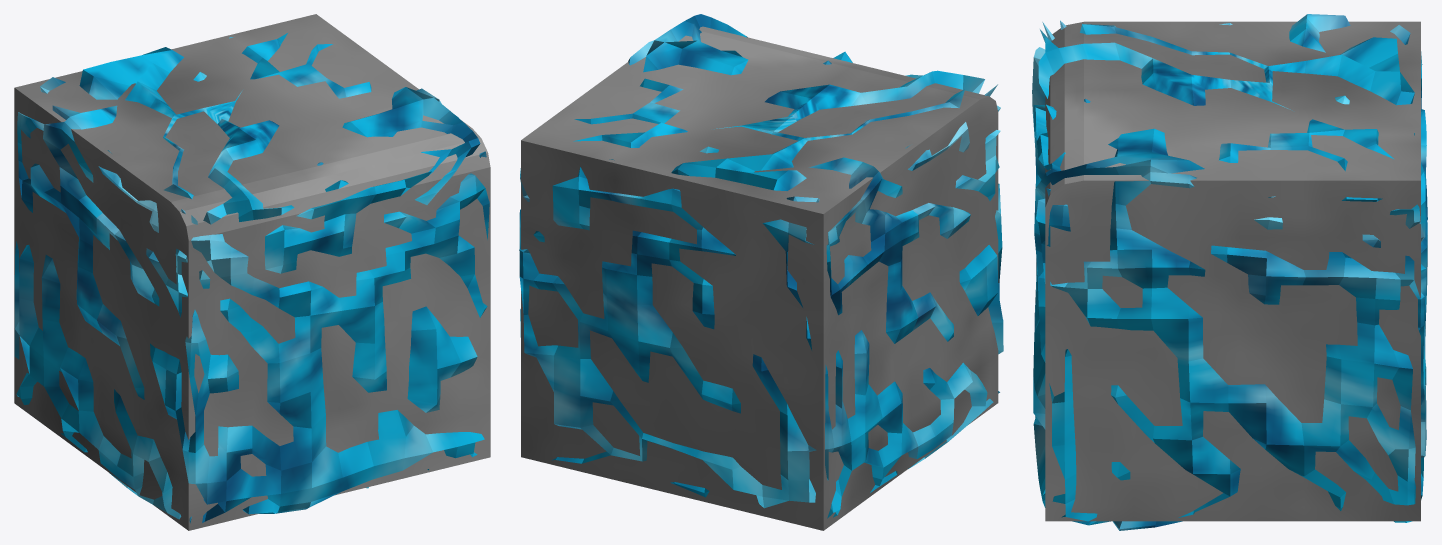
Rendered from CUBE_ARRONDI_PARTIEL1.fbx.
The picture shows the model from 3 angles, left to right: view 1: azimuth 30°, elevation 25°; view 2: azimuth 150°, elevation 25°; view 3: azimuth 270°, elevation 25°; orthographic projection. The views are drawn at different scales.
Parts seen in each view (by area): view 1: Cube.002; view 2: Cube.002; view 3: Cube.002.
Boxes of the visible parts, box(x1,y1,x2,y2) form: Cube.002: box(14, 14, 490, 530); Cube.002: box(519, 14, 1003, 530); Cube.002: box(1032, 14, 1427, 530).
Bounding box in the file's own units: 210 × 218 × 211.
